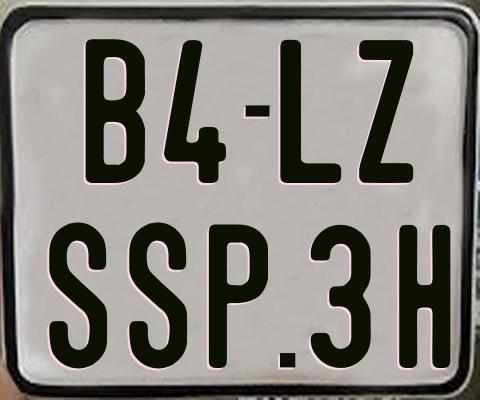3: (311, 225, 376, 373)
4: (162, 37, 226, 185)
B: (85, 37, 148, 187)
H: (397, 224, 450, 369)
L: (278, 40, 343, 186)
P: (206, 224, 271, 369)
S: (46, 221, 105, 371), (129, 221, 189, 368)
Z: (359, 40, 418, 187)
